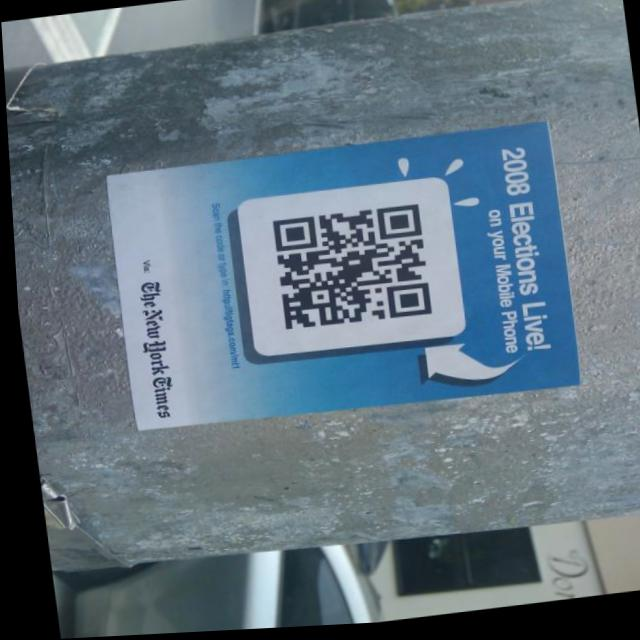qrcode: (268, 209, 428, 336)
